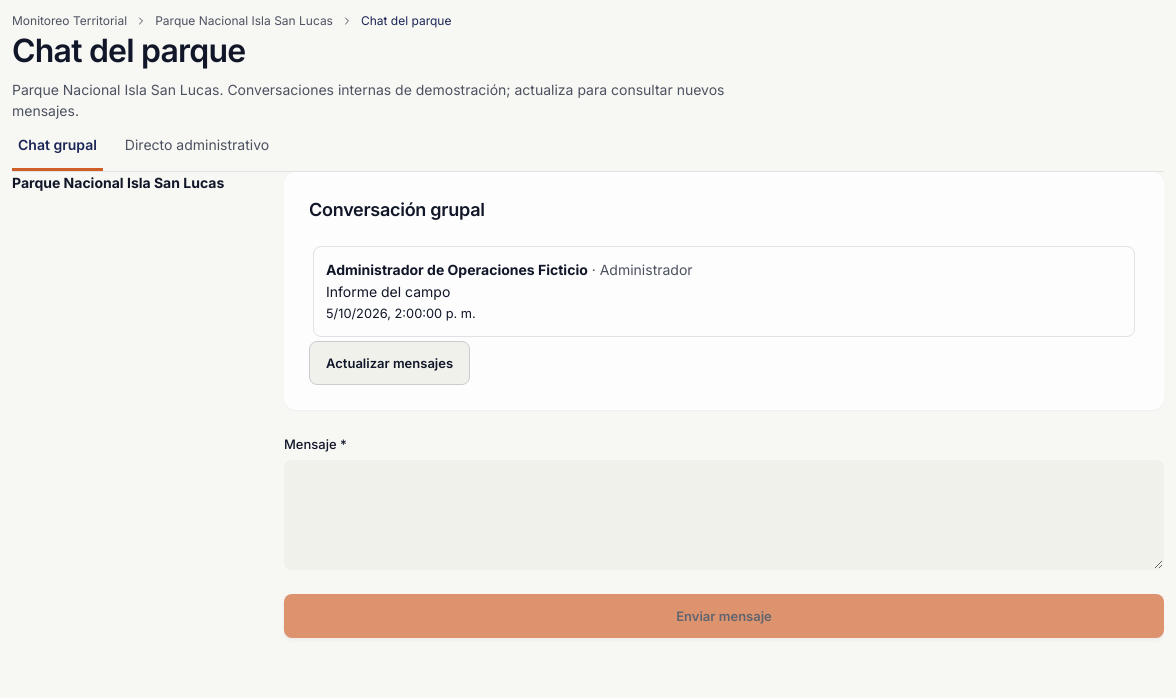
Test: muestra no leídos de directos, filtra contactos y permite seleccionar y responder
This screenshot has width=1176, height=698.
Click the tab "Directo administrativo". click: coordinates (197, 146)
box: [119,122,275,171]
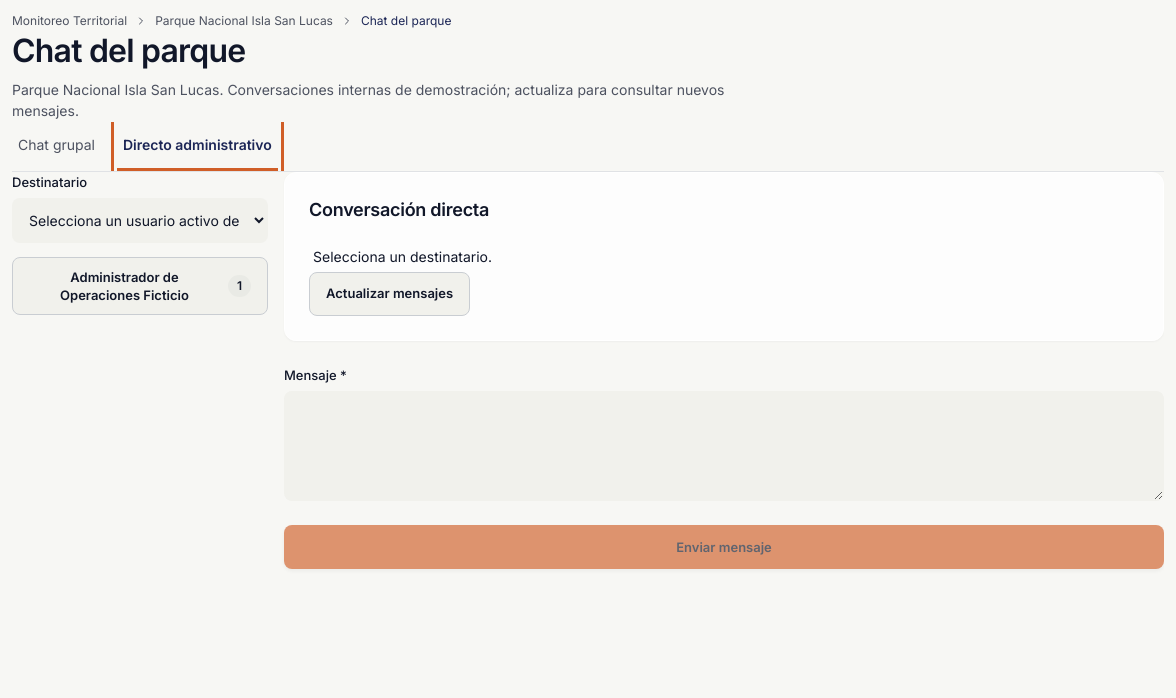
Expected: the text named "1 mensajes sin leer" is shown, [228,275,251,297]
Select "Administrador de Operaciones Ficticio" in the dropdown labelled "Destinatario". click: coordinates (140, 220)
box: [12,198,268,243]
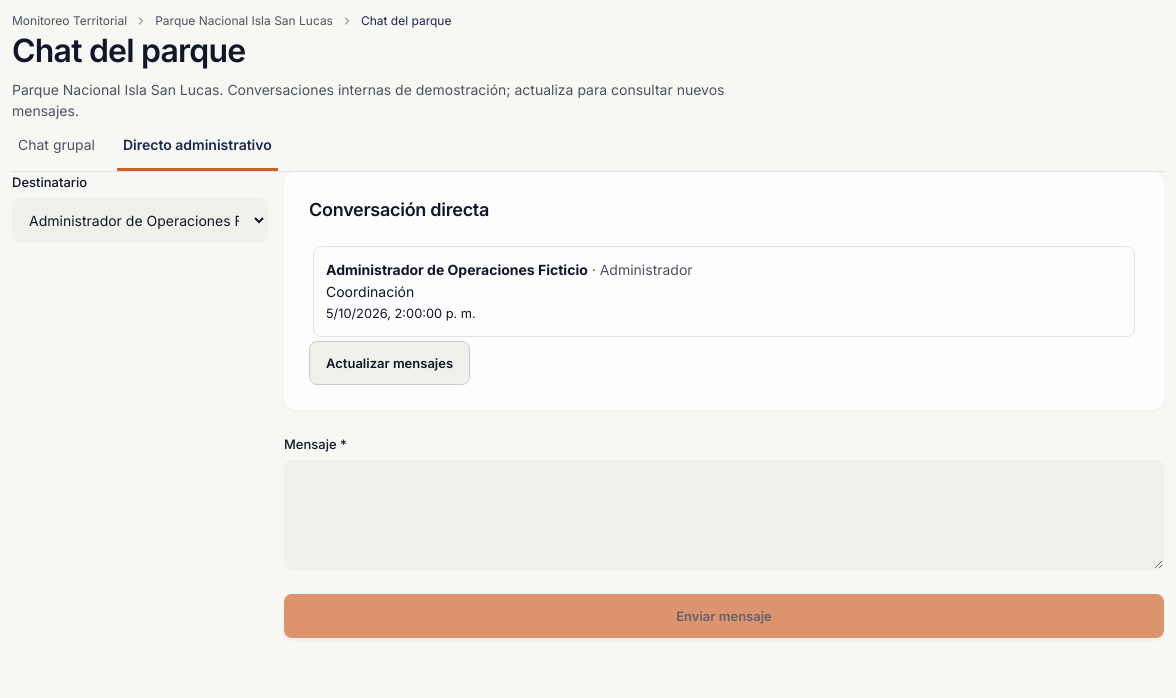
Expected: the text "Coordinación" is shown, [326,282,414,300]
Type "Respuesta" into the text box labelled "Mensaje". click: coordinates (724, 515)
box: [284,460,1164,570]
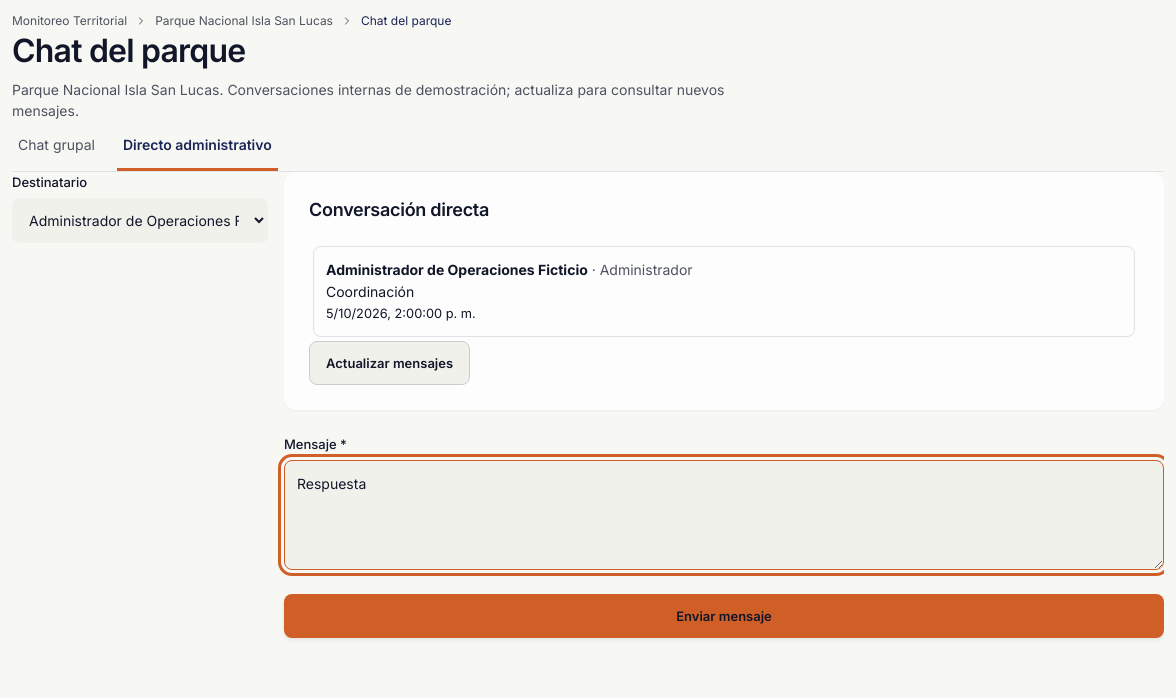
Click the button "Enviar mensaje". click: coordinates (724, 616)
box: [284,594,1164,638]
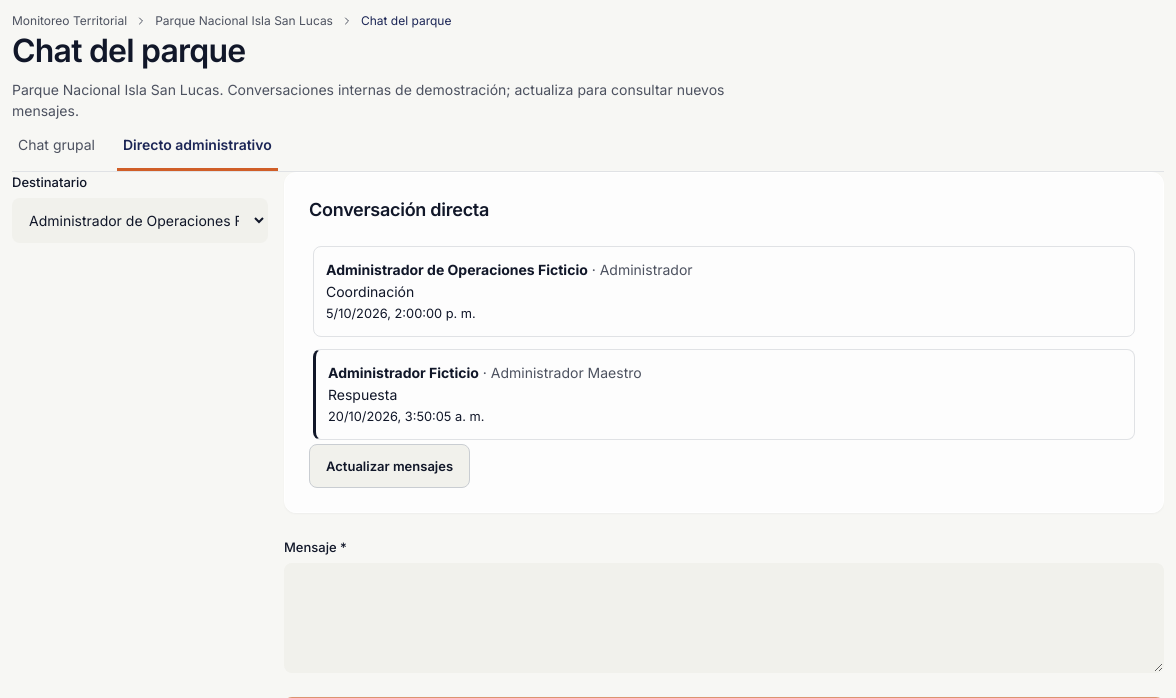
Expected: the text "Respuesta" is shown, [328,386,397,403]
